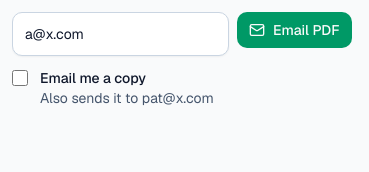
EmailTrip › can send a copy to the driver's own email, with or without others
Later steps or results of the test are not shown.
Clear the field named "Send to" at [120, 34], box [12,12,229,56]
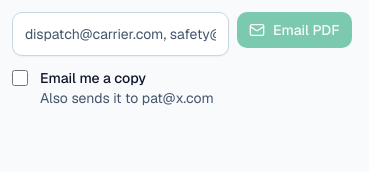
Expected: the text "Also sends it to pat@x.com" is shown, [40,88,214,108]
Now the button "Email PDF" is disabled, box [237,12,352,48]
Click the checkbox labelled "Email me a copy Also sends it to pat@x.com".
click(20, 78)  # box [12,70,28,86]
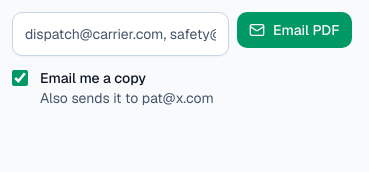
Now the button "Email PDF" is enabled, box [237,12,352,48]
